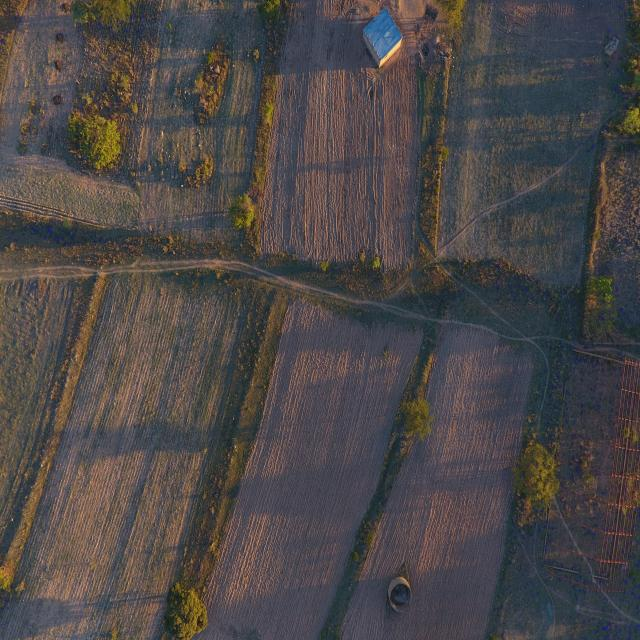boundaries: (185, 298, 301, 574), (6, 288, 127, 549)
